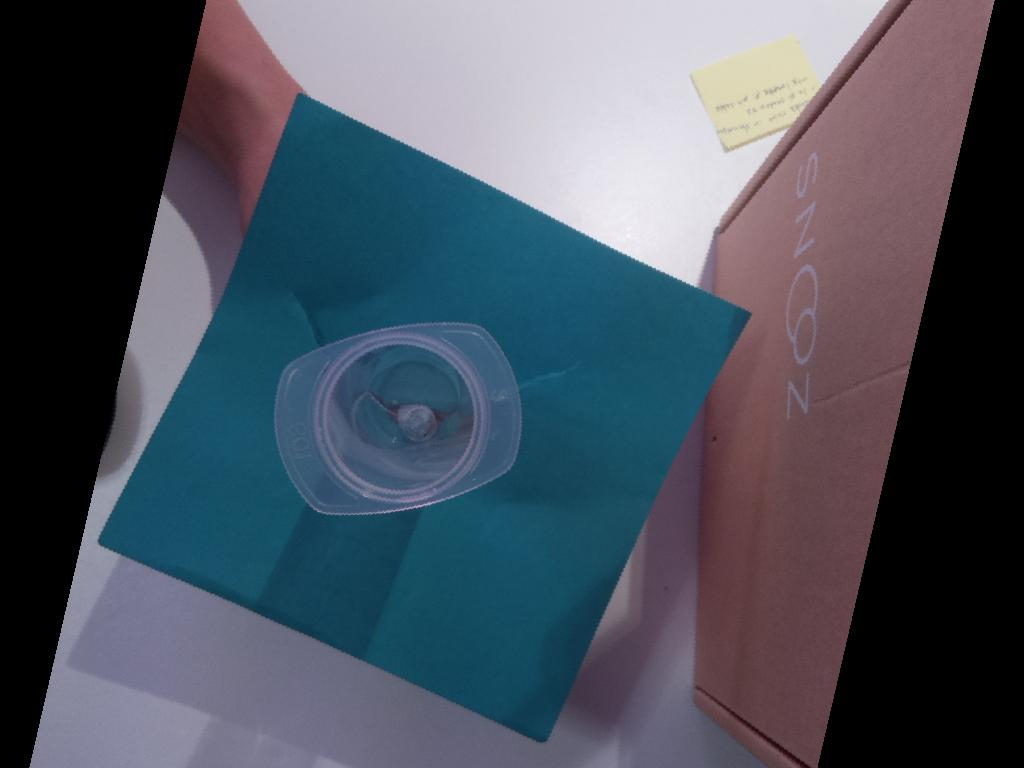clean: (275, 318, 524, 516)
